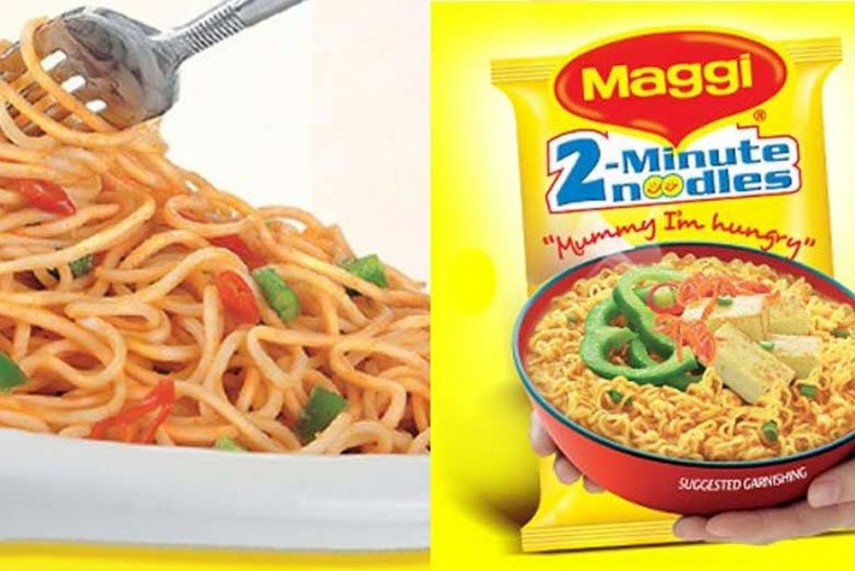maggi: (493, 30, 855, 539)
